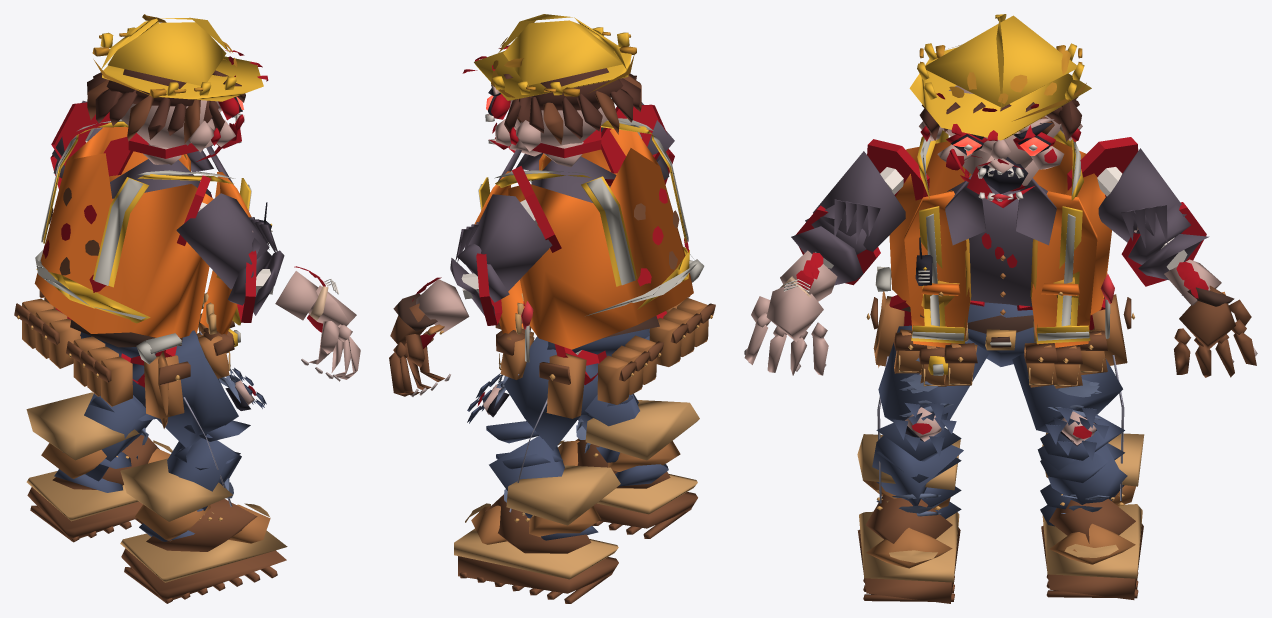
The model's file is inf.construction-worker.lod2.glb.
3 views of the same model, side by side, from view 1: azimuth 30°, elevation 25°; view 2: azimuth 150°, elevation 25°; view 3: azimuth 270°, elevation 25° (orthographic). The views are drawn at different scales.
Visible parts, largest first — view 1: torso, head, footR, hip, footL, legR, armR, shinR, shinL, foreArmR, handR, stump_armL (+3 smaller); view 2: torso, head, footL, hip, footR, armL, legL, handL, shinL, foreArmL, shinR, stump_armR (+5 smaller); view 3: torso, head, hip, footR, footL, legL, shinL, legR, shinR, armR, handL, handR (+7 smaller).
Part boxes in pixels (x1=…): torso: x1=34, y1=119, x2=272, y2=338; head: x1=87, y1=14, x2=268, y2=165; footR: x1=120, y1=458, x2=287, y2=603; hip: x1=14, y1=290, x2=240, y2=428; footL: x1=26, y1=392, x2=172, y2=542; legR: x1=132, y1=330, x2=266, y2=506; armR: x1=176, y1=193, x2=277, y2=289; shinR: x1=139, y1=420, x2=250, y2=541; shinL: x1=54, y1=393, x2=156, y2=492; foreArmR: x1=228, y1=238, x2=338, y2=320; handR: x1=301, y1=285, x2=360, y2=381; stump_armL: x1=51, y1=102, x2=133, y2=176; torso: x1=474, y1=118, x2=696, y2=349; head: x1=462, y1=14, x2=641, y2=167; footL: x1=454, y1=465, x2=620, y2=603; hip: x1=495, y1=259, x2=715, y2=418; footR: x1=557, y1=400, x2=699, y2=538; armL: x1=455, y1=194, x2=552, y2=291; legL: x1=467, y1=336, x2=598, y2=512; handL: x1=389, y1=293, x2=450, y2=396; shinL: x1=486, y1=421, x2=598, y2=540; foreArmL: x1=412, y1=244, x2=509, y2=332; shinR: x1=576, y1=394, x2=668, y2=486; stump_armR: x1=601, y1=104, x2=667, y2=173; torso: x1=889, y1=130, x2=1111, y2=347; head: x1=909, y1=14, x2=1091, y2=207; hip: x1=866, y1=266, x2=1134, y2=388; footR: x1=857, y1=434, x2=960, y2=603; footL: x1=1041, y1=432, x2=1144, y2=599; legL: x1=1012, y1=353, x2=1124, y2=500; shinL: x1=1037, y1=414, x2=1127, y2=526; legR: x1=877, y1=325, x2=989, y2=503; shinR: x1=872, y1=422, x2=963, y2=518; armR: x1=813, y1=151, x2=905, y2=251; handL: x1=1174, y1=285, x2=1257, y2=377; handR: x1=744, y1=281, x2=828, y2=375.
Bounding box in the file's own units: 0.6227 × 1.5 × 1.26.
